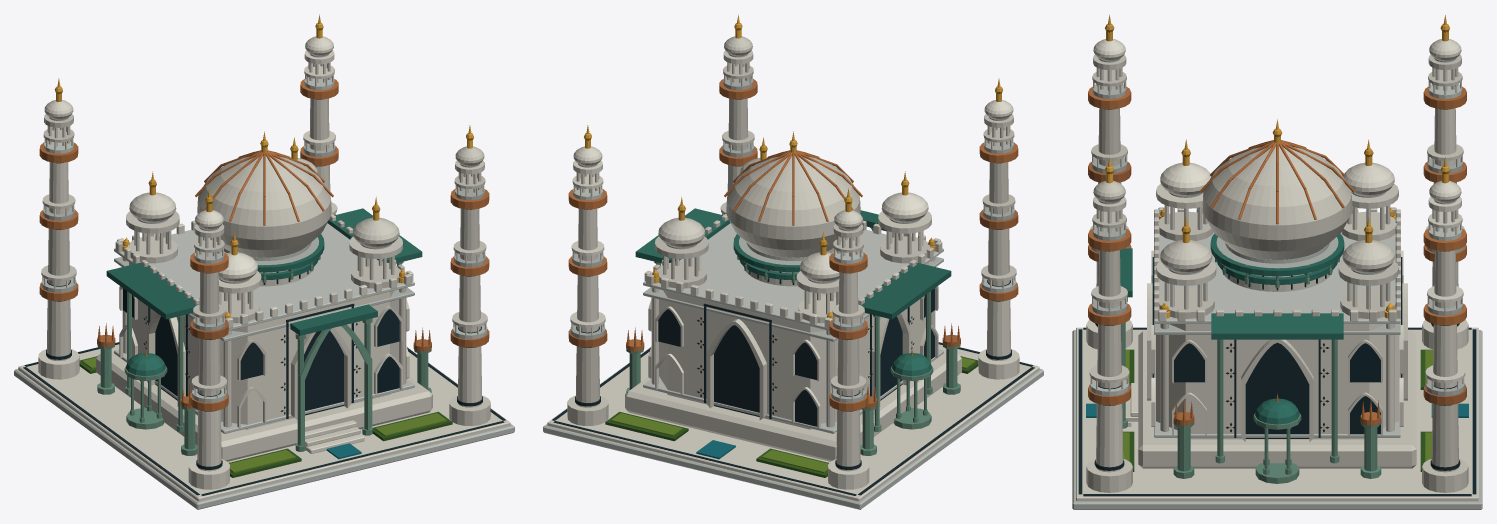
The picture shows the model from 3 angles, left to right: view 1: azimuth 30°, elevation 25°; view 2: azimuth 150°, elevation 25°; view 3: azimuth 270°, elevation 25°; orthographic projection. The views are drawn at different scales.
Parts seen in each view (by area): view 1: fort_L8_0, fort_L8_1; view 2: fort_L8_0, fort_L8_1; view 3: fort_L8_0, fort_L8_1.
Part boxes in pixels (x1=…): fort_L8_0: x1=14, y1=23, x2=514, y2=509; fort_L8_1: x1=39, y1=14, x2=489, y2=411; fort_L8_0: x1=543, y1=23, x2=1043, y2=509; fort_L8_1: x1=568, y1=14, x2=1018, y2=411; fort_L8_0: x1=1072, y1=24, x2=1482, y2=509; fort_L8_1: x1=1088, y1=15, x2=1466, y2=428.
Size of the model in its own units: 7.6 by 6.93 by 7.6.
